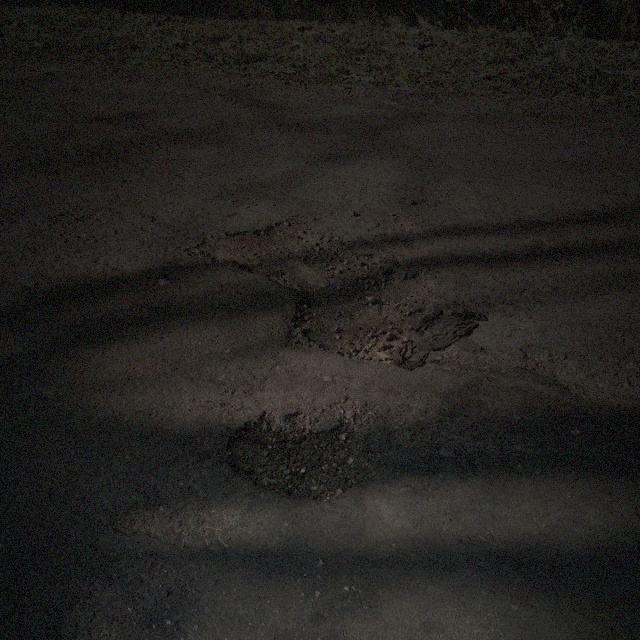pothole: (193, 210, 463, 364), (220, 405, 378, 503)
